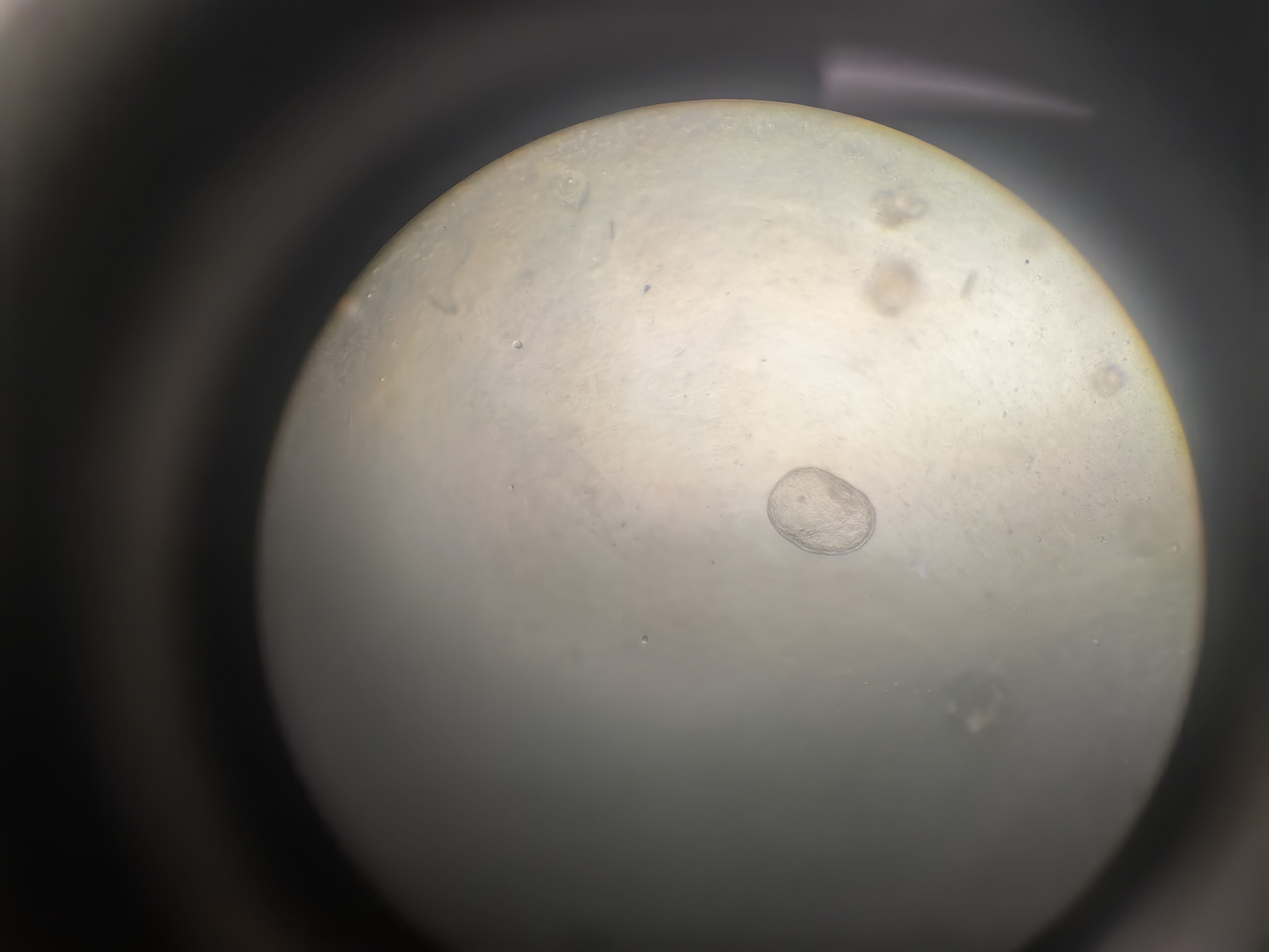organoid: (780, 421, 856, 500), (807, 192, 858, 242), (465, 286, 506, 328)
